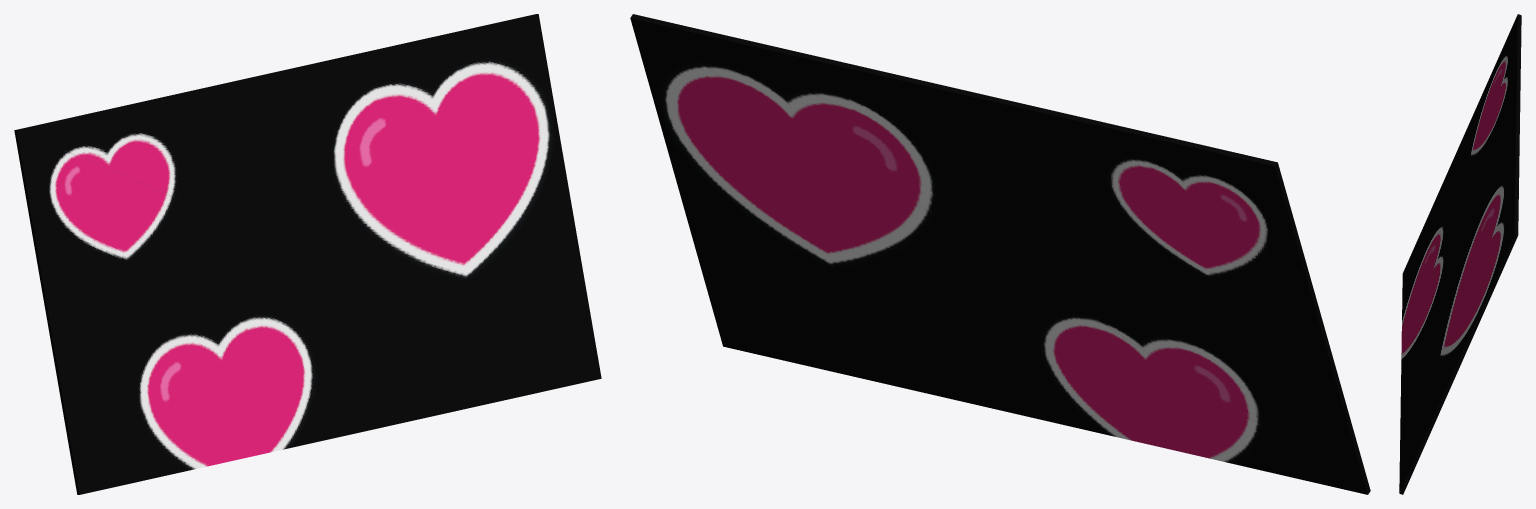
File: Rug.fbx
The picture shows the model from 3 angles, left to right: view 1: azimuth 30°, elevation 25°; view 2: azimuth 150°, elevation 25°; view 3: azimuth 270°, elevation 25°; orthographic projection. The views are drawn at different scales.
Visible parts, largest first — view 1: node_id3; view 2: node_id3; view 3: node_id3.
Boxes of the visible parts, bbox=[...] form: node_id3: bbox=[14, 14, 601, 494]; node_id3: bbox=[630, 14, 1370, 494]; node_id3: bbox=[1399, 14, 1521, 494].
Size of the model in its own units: 0.5105 by 0.3003 by 0.1228.
Materials: 1 (1 with a texture image).
